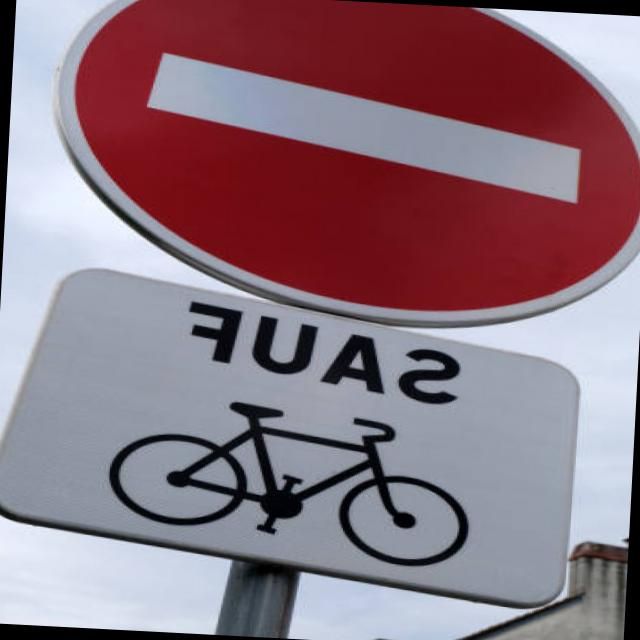do_not_enter: (38, 0, 640, 341)
